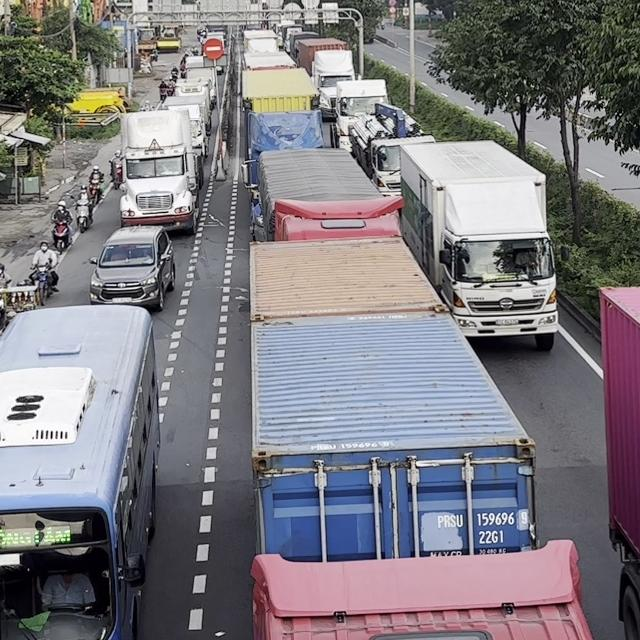bus: (0, 303, 160, 639)
car: (87, 224, 176, 311)
motorcycle: (27, 263, 58, 305), (51, 218, 73, 252), (72, 198, 93, 232), (108, 150, 124, 189), (87, 177, 104, 204), (112, 163, 123, 189), (164, 77, 176, 96)
truck: (249, 236, 594, 640), (399, 138, 559, 351), (246, 147, 403, 242), (598, 284, 639, 639), (118, 109, 204, 234), (348, 102, 436, 197), (240, 68, 326, 151), (272, 195, 403, 242), (333, 78, 389, 152)
